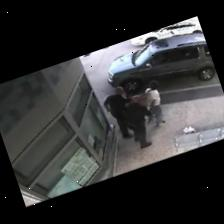person: (124, 96, 151, 149), (104, 87, 131, 138), (145, 82, 164, 126)
